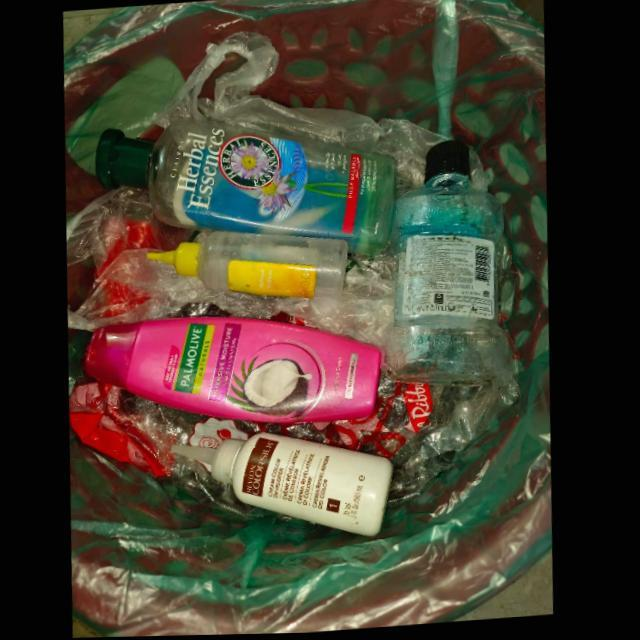plastic: (96, 120, 398, 259), (86, 318, 386, 427), (388, 143, 509, 388), (174, 434, 397, 538), (149, 232, 351, 300)
